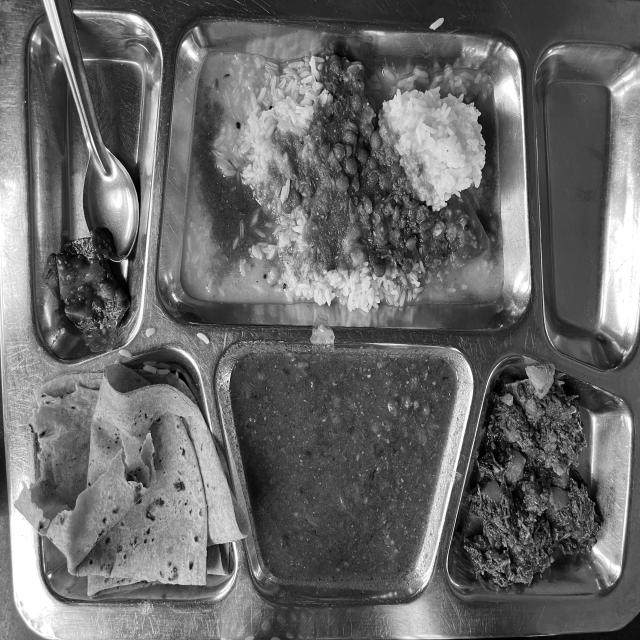100.8- Food Left: (16, 4, 640, 604)
